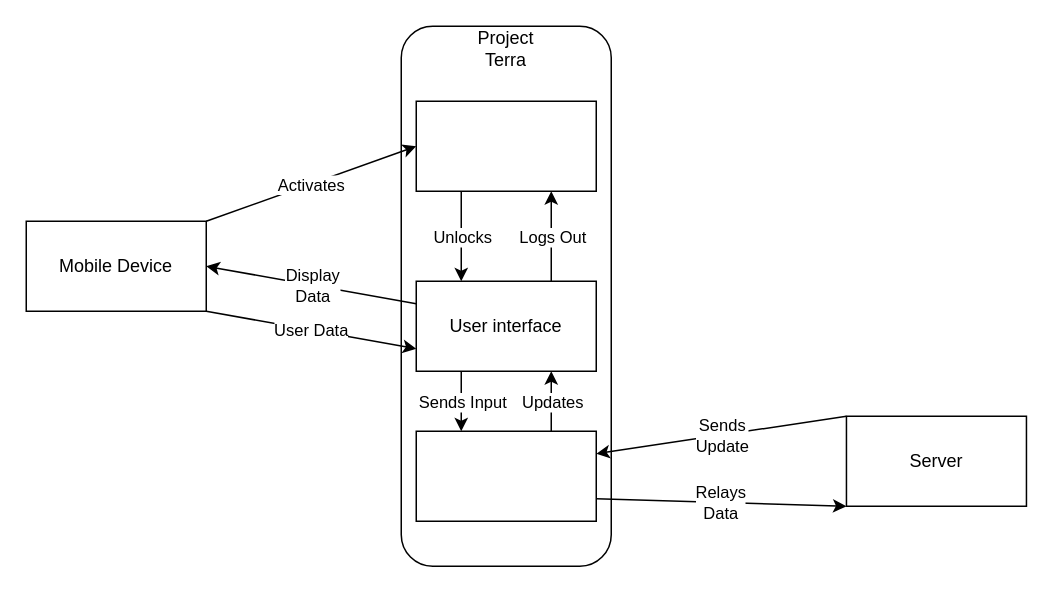
The diagram is 1053 pixels wide and 593 high, and some of its shapes have lost their labels. Each missing label, with the centre of its shape:
"Database Communcation" belongs at [505,475].
"Login" belongs at [505,145].
